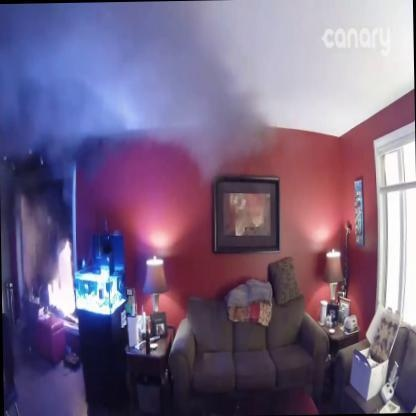smoke: (1, 3, 267, 174)
